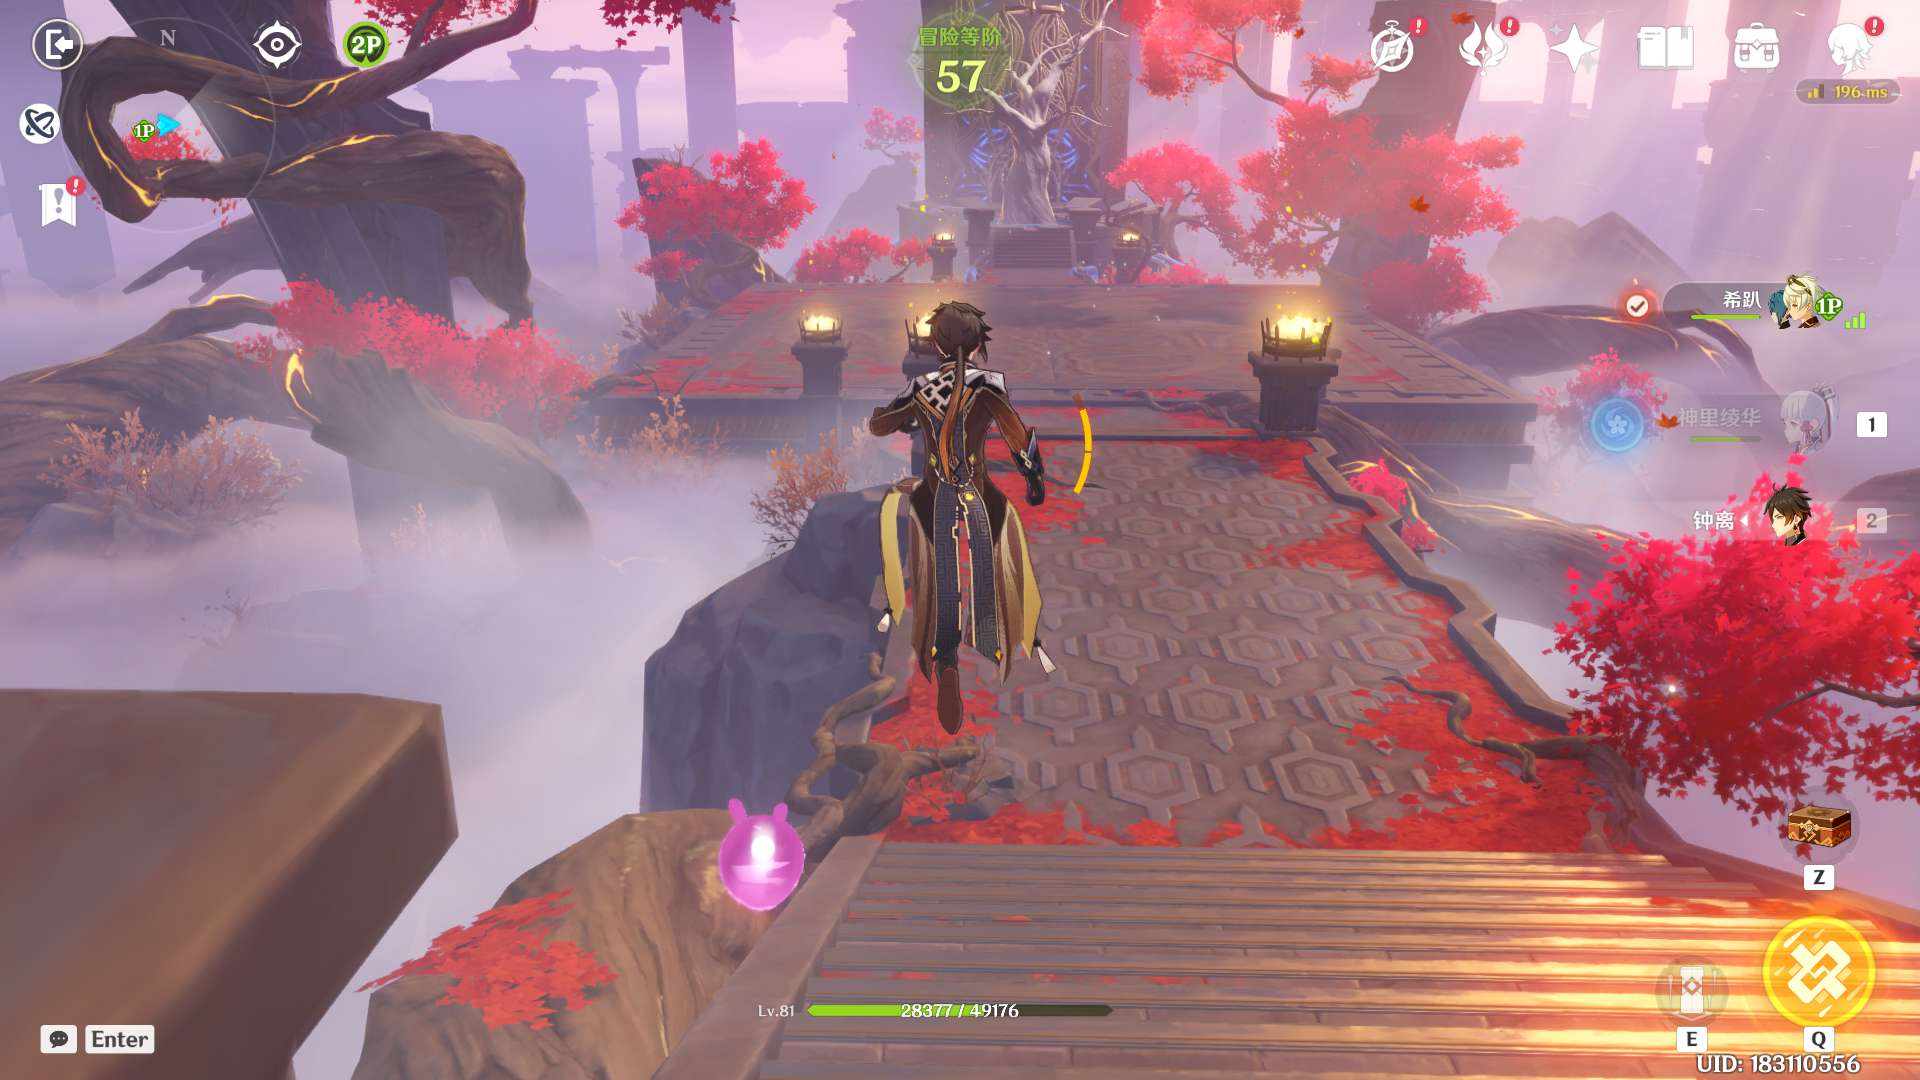character: (845, 295, 1091, 732)
